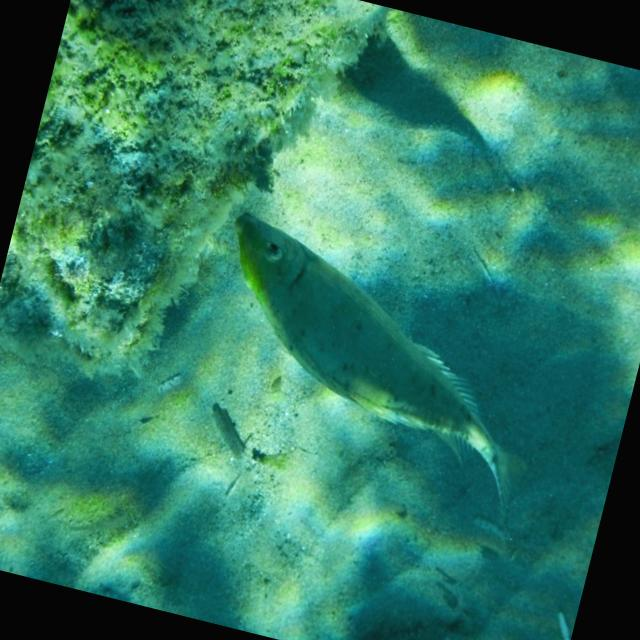Sokar Baligi: (168, 181, 590, 545)
